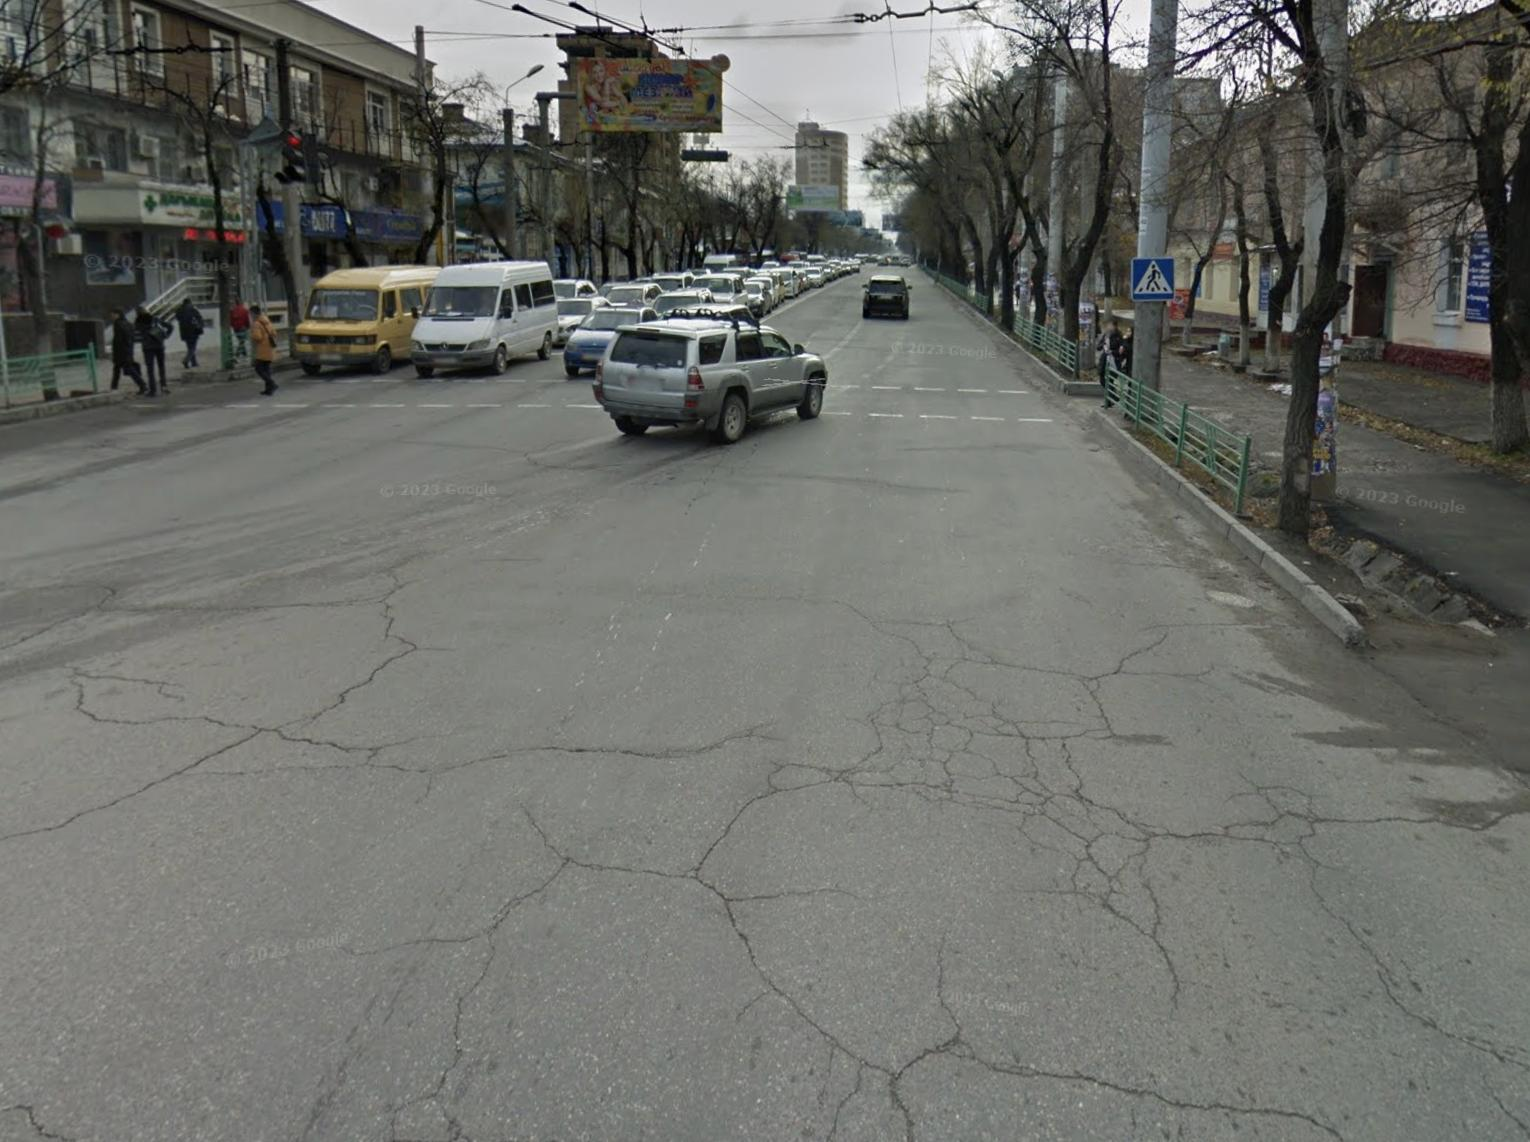longitudinal_crack: (833, 603, 1228, 1007), (57, 585, 440, 808), (513, 728, 802, 920)
